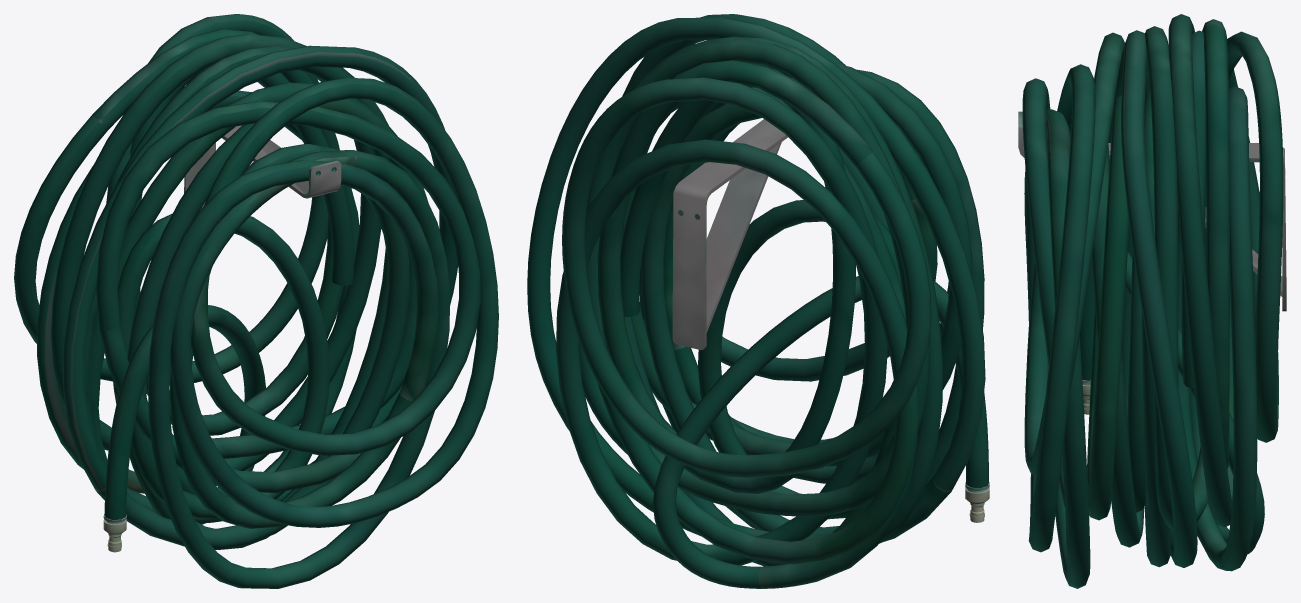
The model's file is garden-hose-wall-mounted-01.glb.
3 views of the same model, side by side, from view 1: azimuth 30°, elevation 25°; view 2: azimuth 150°, elevation 25°; view 3: azimuth 270°, elevation 25° (orthographic). The views are drawn at different scales.
Visible parts, largest first — view 1: garden_hose_wall_bracket; view 2: garden_hose_wall_bracket; view 3: garden_hose_wall_bracket.
Boxes of the visible parts, x1,y1,x2,y2 form: garden_hose_wall_bracket: (14,14,498,588); garden_hose_wall_bracket: (527,14,989,588); garden_hose_wall_bracket: (1018,14,1286,588).
Size of the model in its own units: 0.4667 by 0.557 by 0.2503.
1 material, 1 textured.
